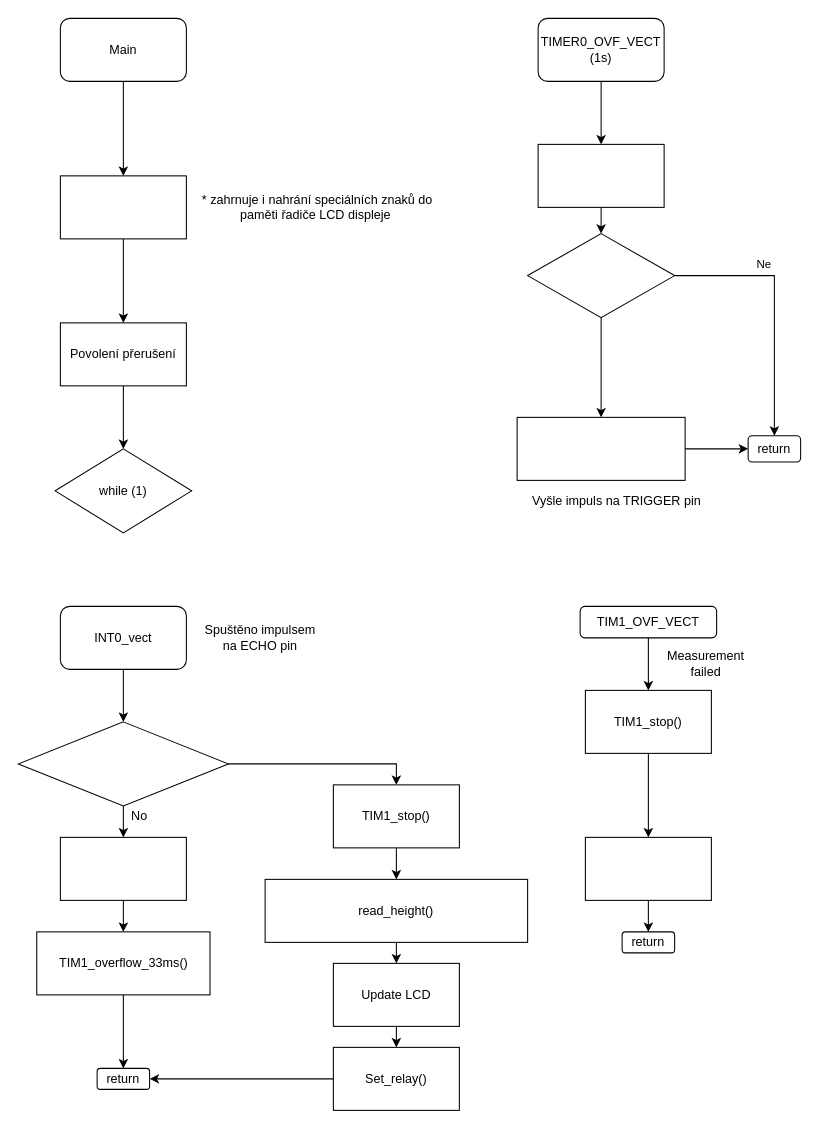
Some shapes in this 819 by 1129 pixel diagram are drawn without their labels. Here are the shapes that lost their labels. From the top down, the centre of each, then its label:
At [600,175]: "seconds ++;".
At [122,207]: "Inicialize registrů a periferie*".
At [601,275]: "if(seconds >= 60)".
At [600,448]: "Spustit měření vzdálenosti".
At [122,763]: "if(is_measuring)".
At [122,868]: "TIM1_reset()".
At [647,868]: "LCD_update_error()".
